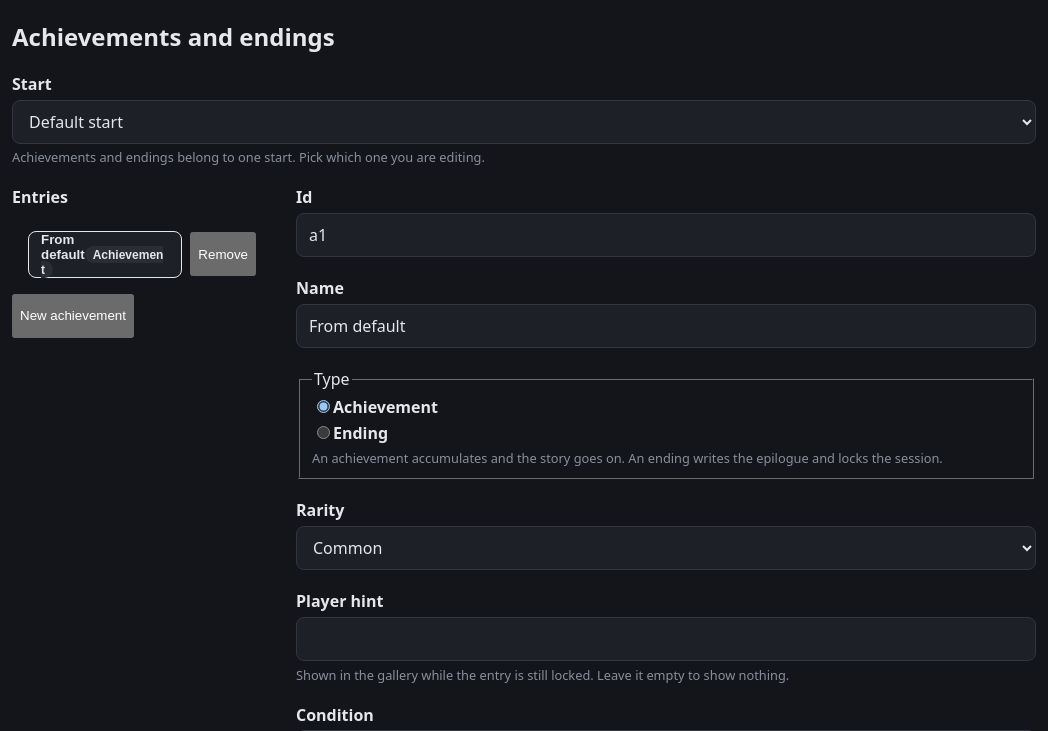
Test: AchievementsTab › switching start swaps the list and resets selection
This screenshot has width=1048, height=731.
Expected: the text "From default" is shown, [41,232,85,262]
Select "Other start" in the dropdown labelled "Start". click: (524, 122)
box: [12,100,1036,144]
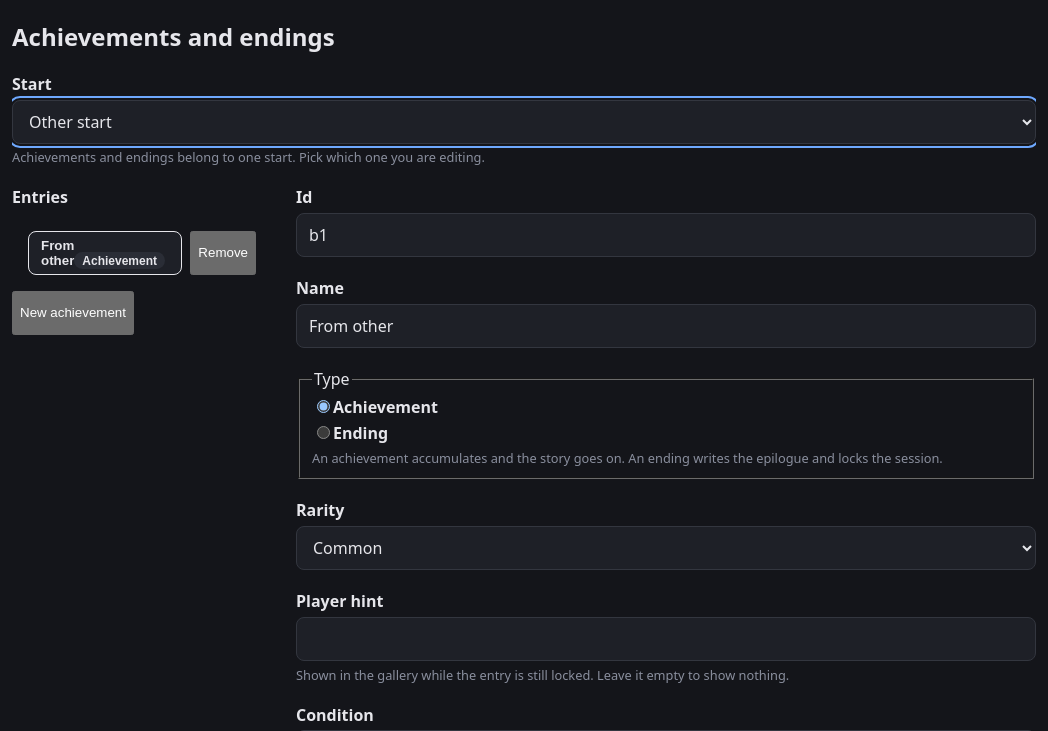
Expected: the text "From default" is not shown
Expected: the text "From other" is shown, [41,238,74,268]
